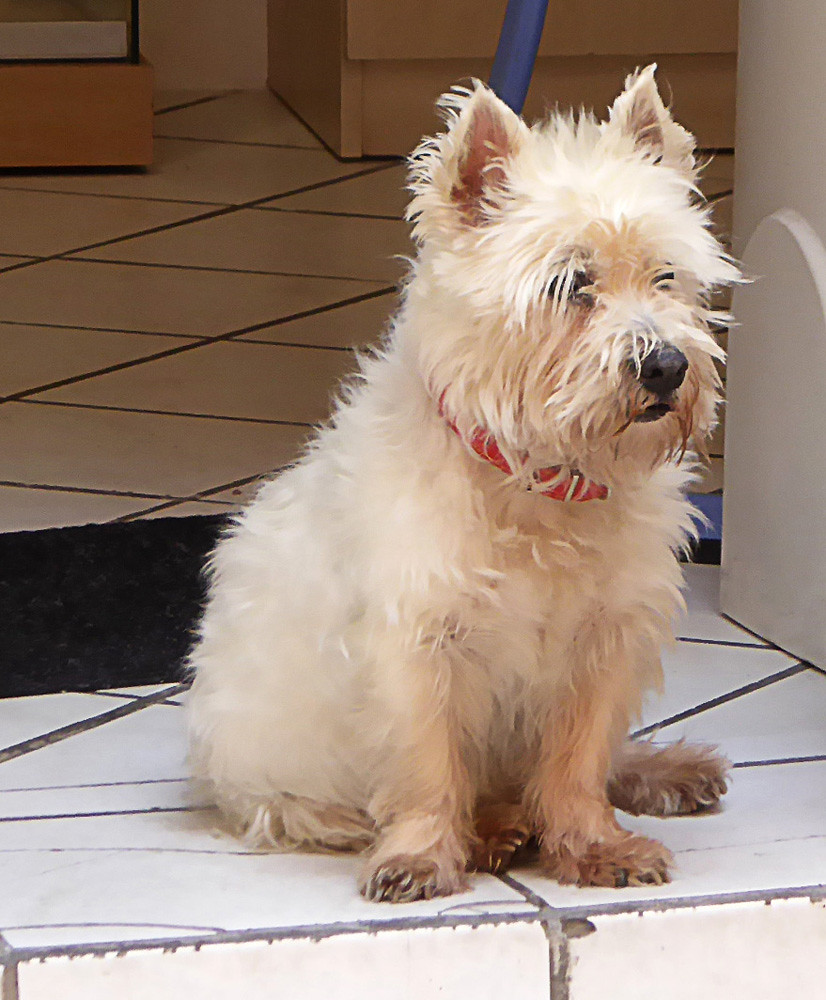dog: (187, 62, 762, 912)
